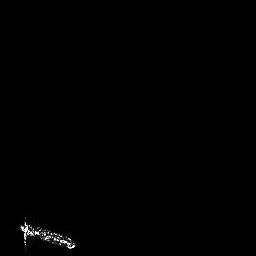ship: (15, 214, 79, 252)
